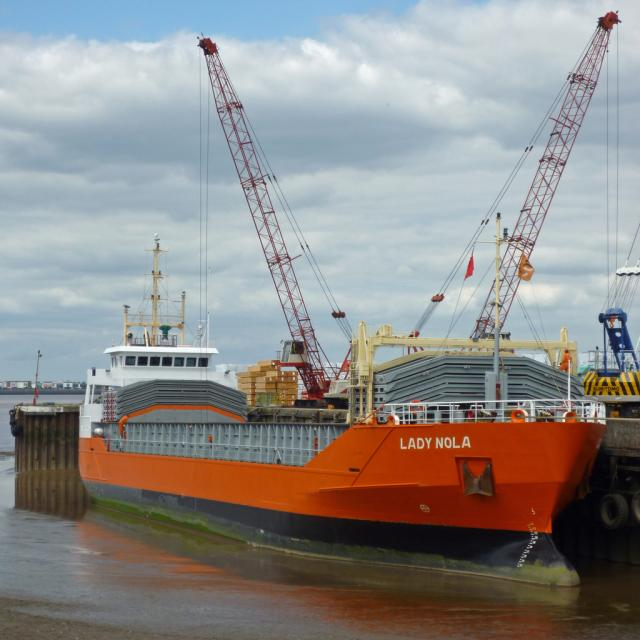Boat: (71, 21, 640, 587)
